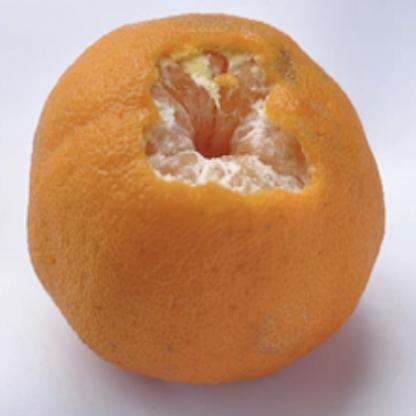fresh: (26, 13, 386, 384)
